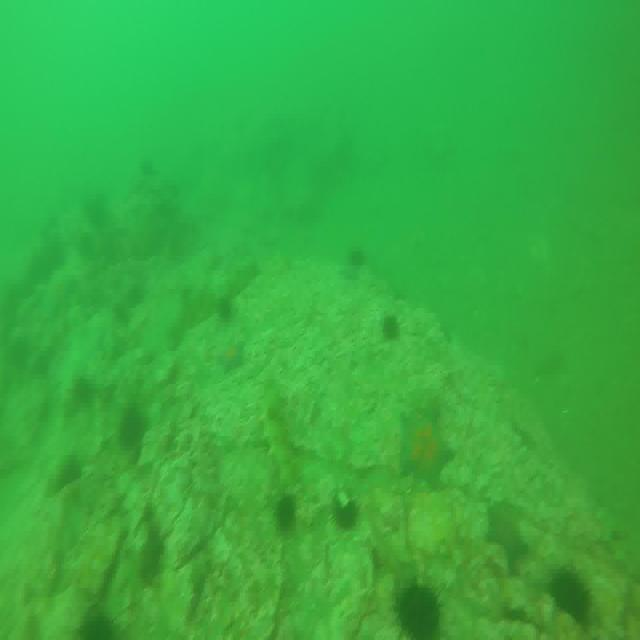echinus: (395, 581, 446, 640), (551, 561, 591, 619), (70, 604, 112, 640), (120, 408, 146, 446), (335, 488, 356, 528), (275, 498, 292, 530), (381, 313, 398, 342), (220, 298, 236, 322), (349, 250, 365, 269)
starfish: (401, 409, 448, 485), (488, 507, 529, 571), (216, 340, 248, 369)
